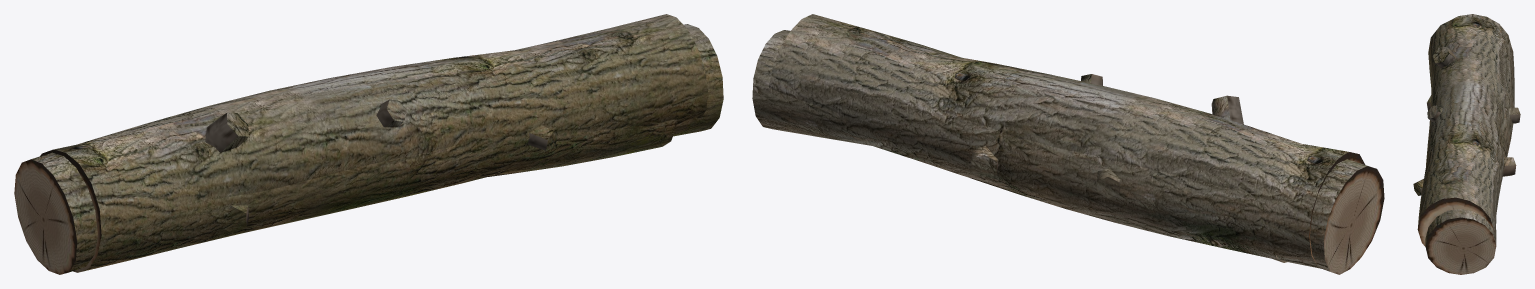
3 views of the same model, side by side, from view 1: azimuth 30°, elevation 25°; view 2: azimuth 150°, elevation 25°; view 3: azimuth 270°, elevation 25° (orthographic). The views are drawn at different scales.
Parts seen in each view (by area): view 1: variant_2, variant_0, variant_1; view 2: variant_0, variant_2; view 3: variant_2, variant_0, variant_1.
Boxes of the visible parts, x1=… form: variant_2: x1=14, y1=24, x2=723, y2=274; variant_0: x1=40, y1=14, x2=708, y2=272; variant_1: x1=376, y1=99, x2=676, y2=177; variant_0: x1=769, y1=14, x2=1365, y2=268; variant_2: x1=752, y1=30, x2=1384, y2=274; variant_2: x1=1413, y1=14, x2=1520, y2=274; variant_0: x1=1417, y1=16, x2=1516, y2=246; variant_1: x1=1427, y1=43, x2=1504, y2=160.
Size of the model in its own units: 1.4 by 0.2875 by 0.326.
Materials: 2 (2 with a texture image).
